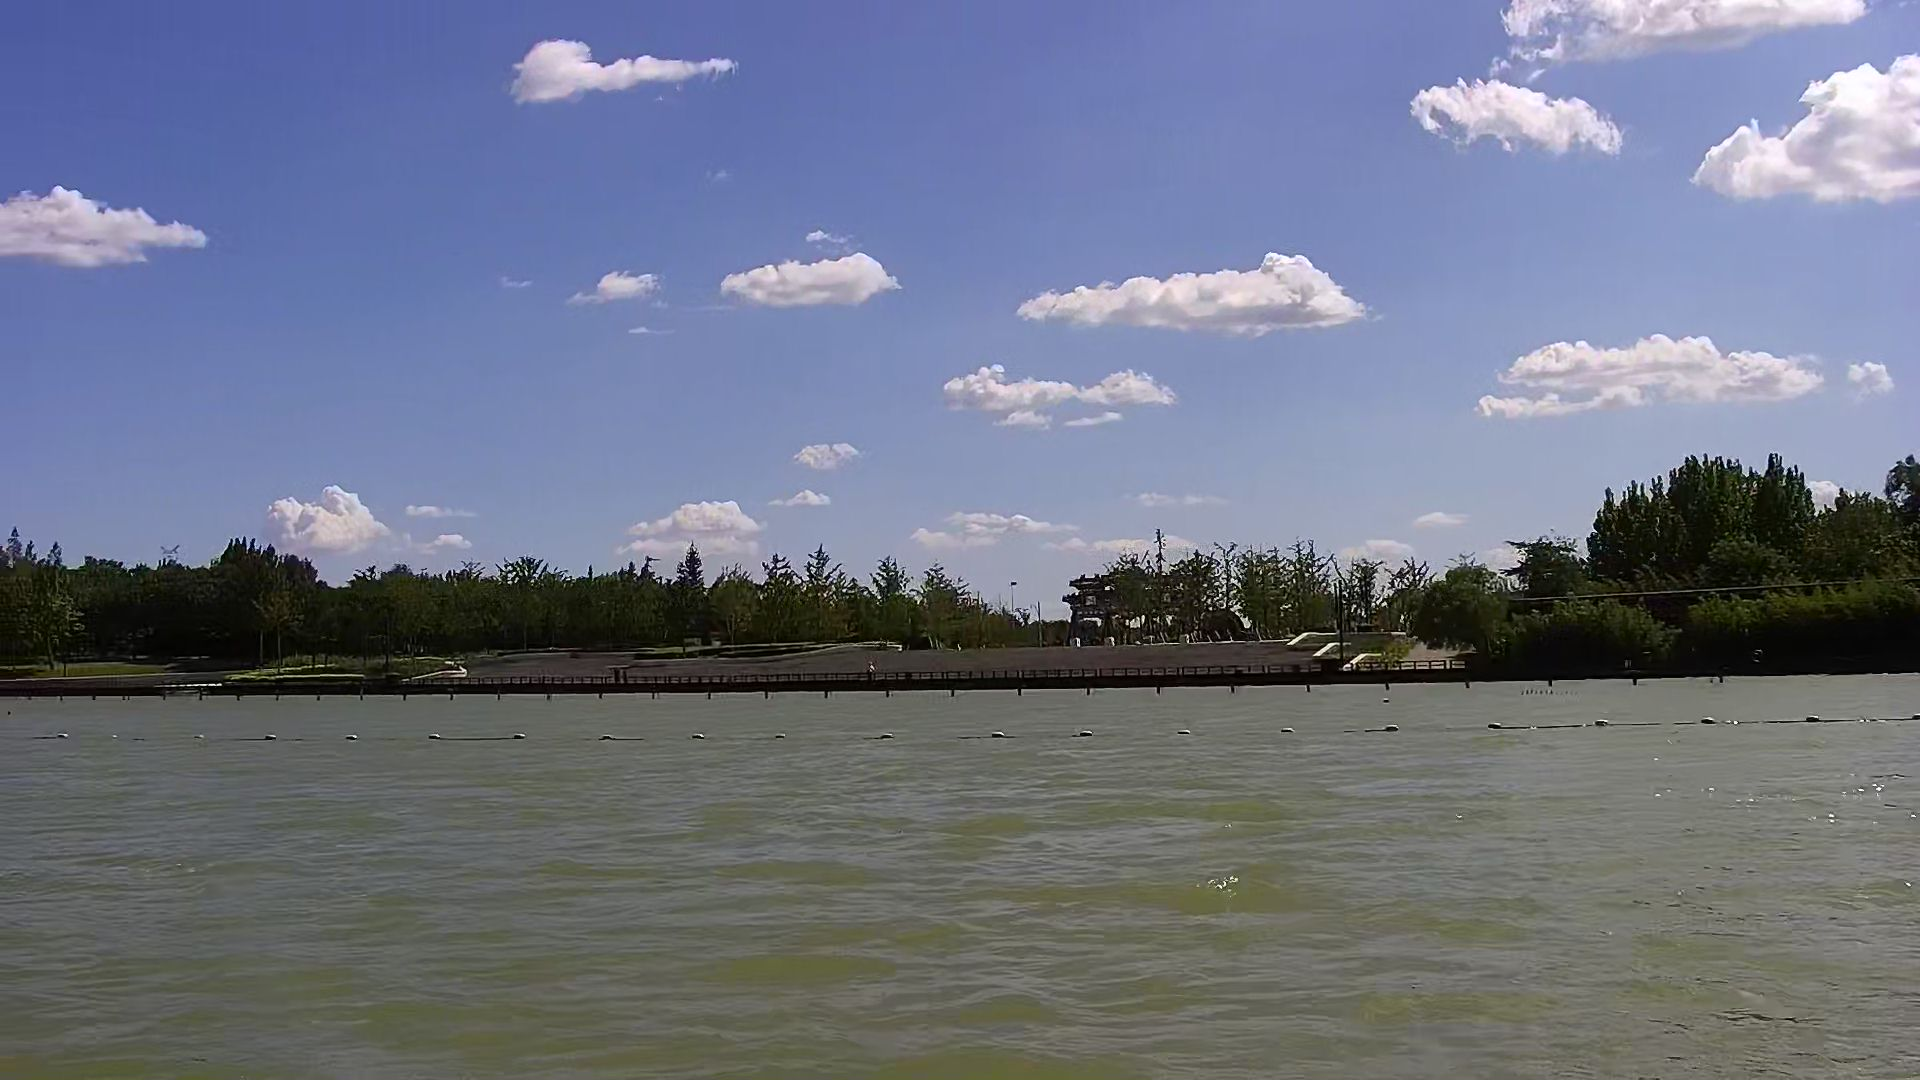ball: (1801, 708, 1829, 732), (509, 725, 535, 745), (1382, 716, 1404, 738), (1588, 713, 1615, 731), (990, 725, 1009, 749), (53, 725, 73, 745), (1076, 725, 1093, 742), (1484, 721, 1505, 735)
harbor: (386, 651, 1478, 688)
